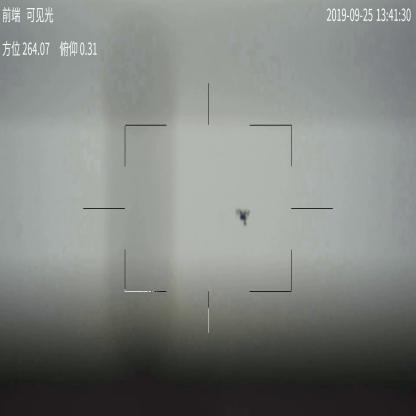uav: (236, 204, 250, 228)
